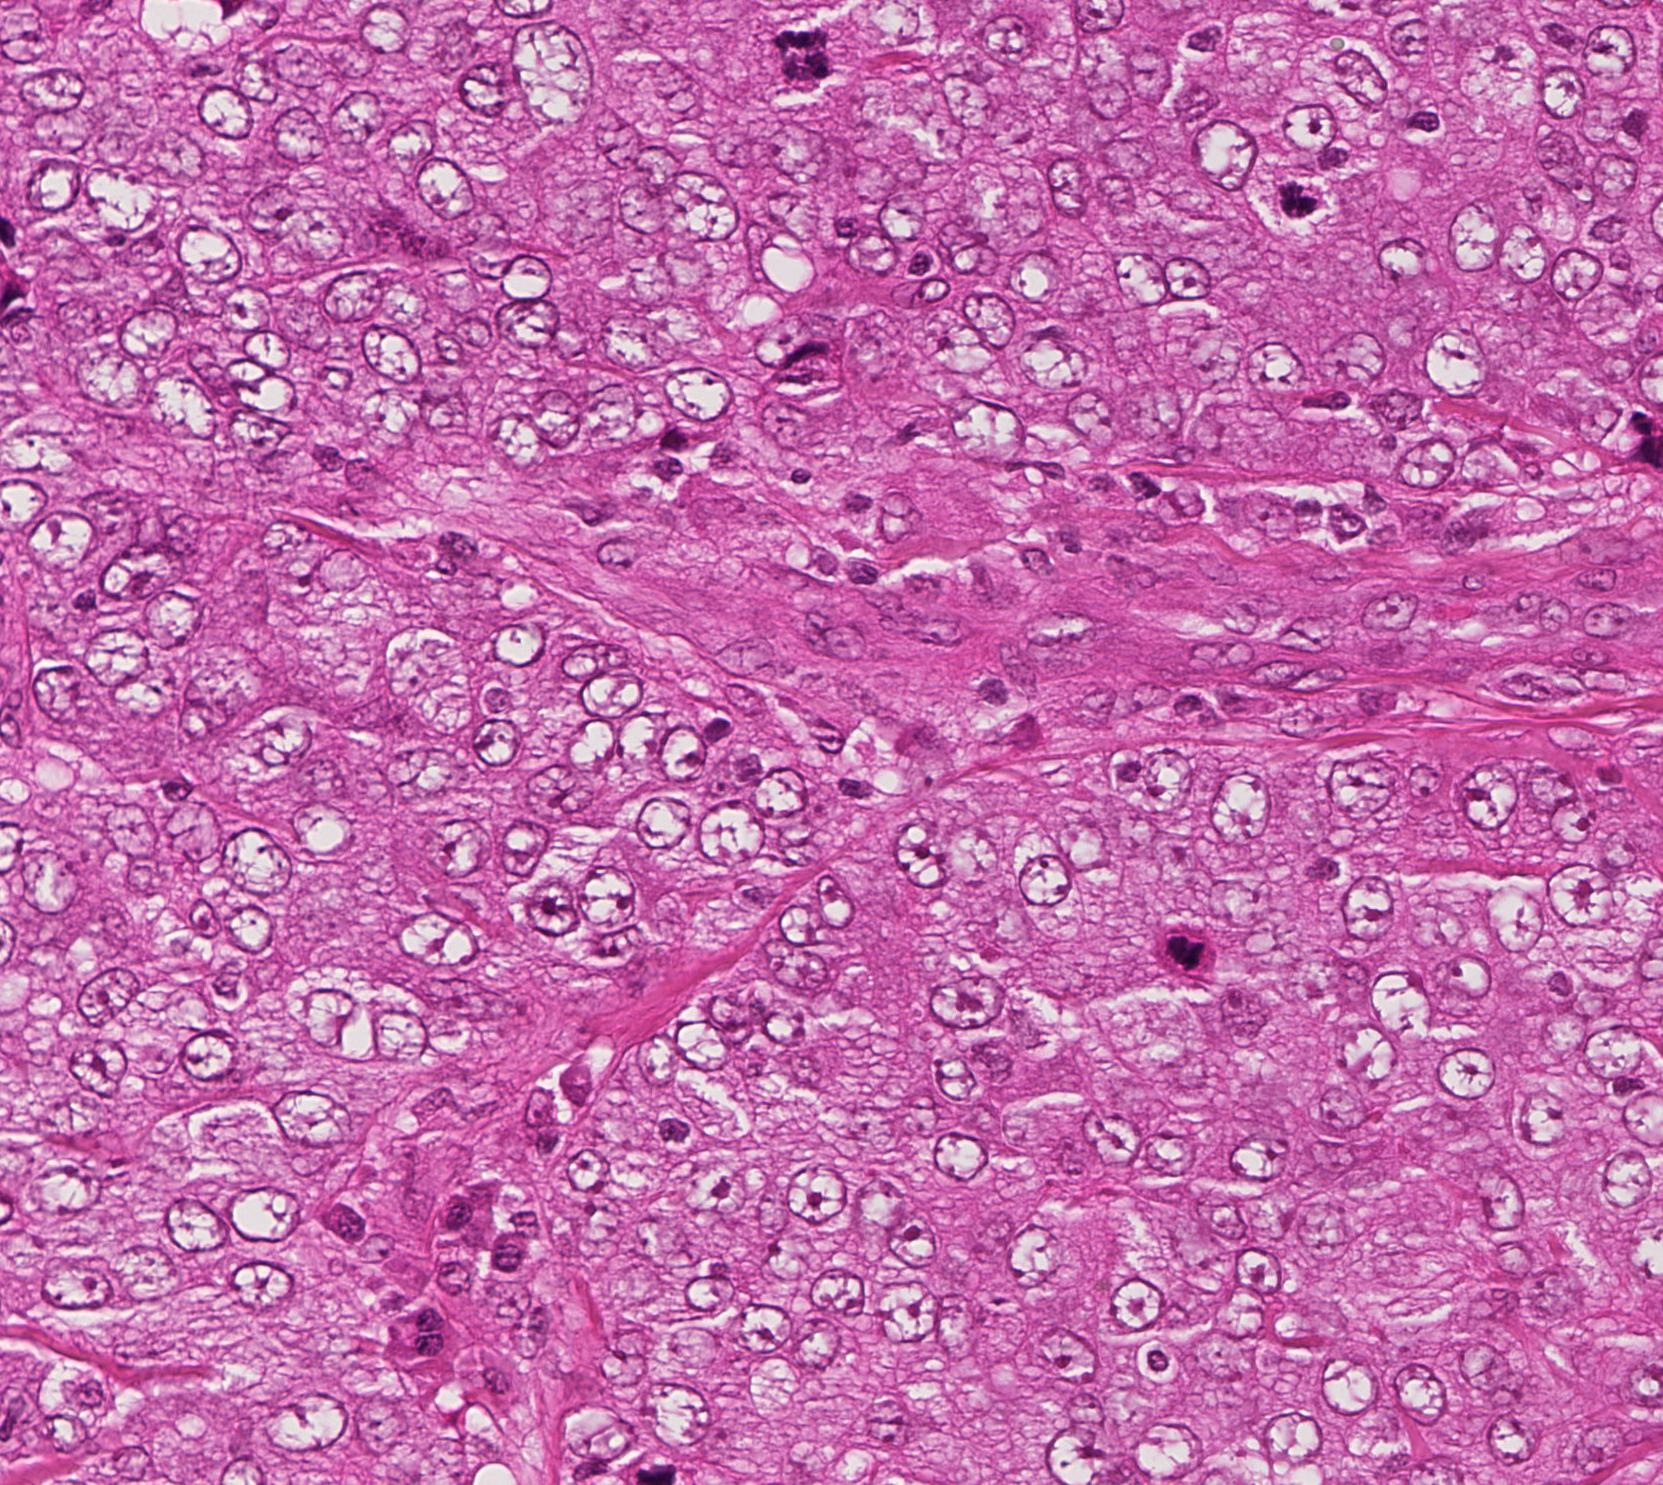mitosis: (774, 22, 834, 82), (1272, 176, 1332, 237), (629, 1443, 690, 1485)
